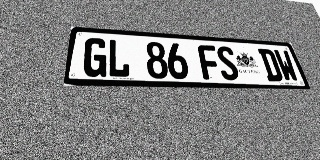6: (166, 43, 190, 79)
8: (145, 41, 169, 79)
D: (257, 49, 284, 82)
F: (197, 45, 222, 80)
G: (82, 37, 107, 77)
L: (107, 39, 130, 78)
S: (215, 46, 241, 80)
W: (273, 50, 300, 82)
